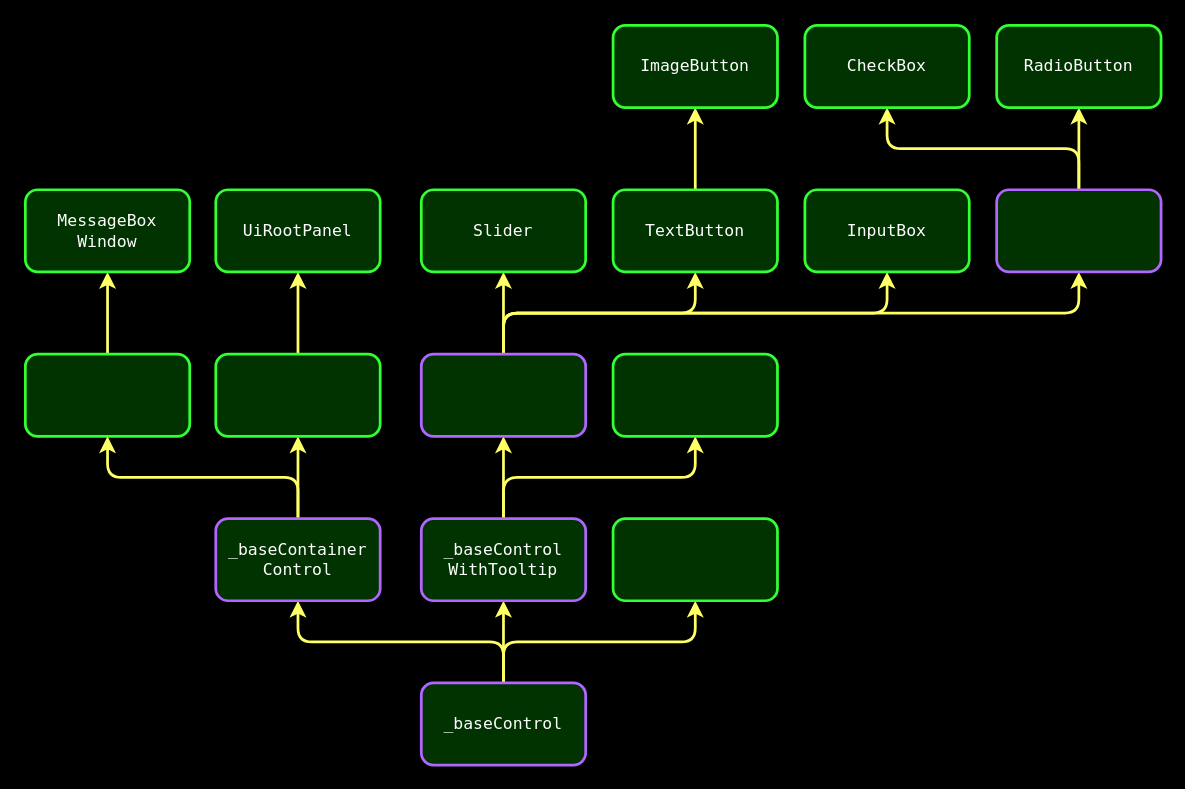
This 1185x789 diagram has some shape labels left out. The shapes that lost their labels are listed below. From the top down, each one's box as (x1, y1, x2, y2) in pixels, then its label:
(995, 188, 1162, 273): _baseCheckable Control
(23, 352, 190, 437): Window
(214, 352, 381, 437): Panel
(419, 352, 586, 437): _baseClickable Control
(611, 352, 778, 437): Label
(611, 516, 778, 601): Tooltip
